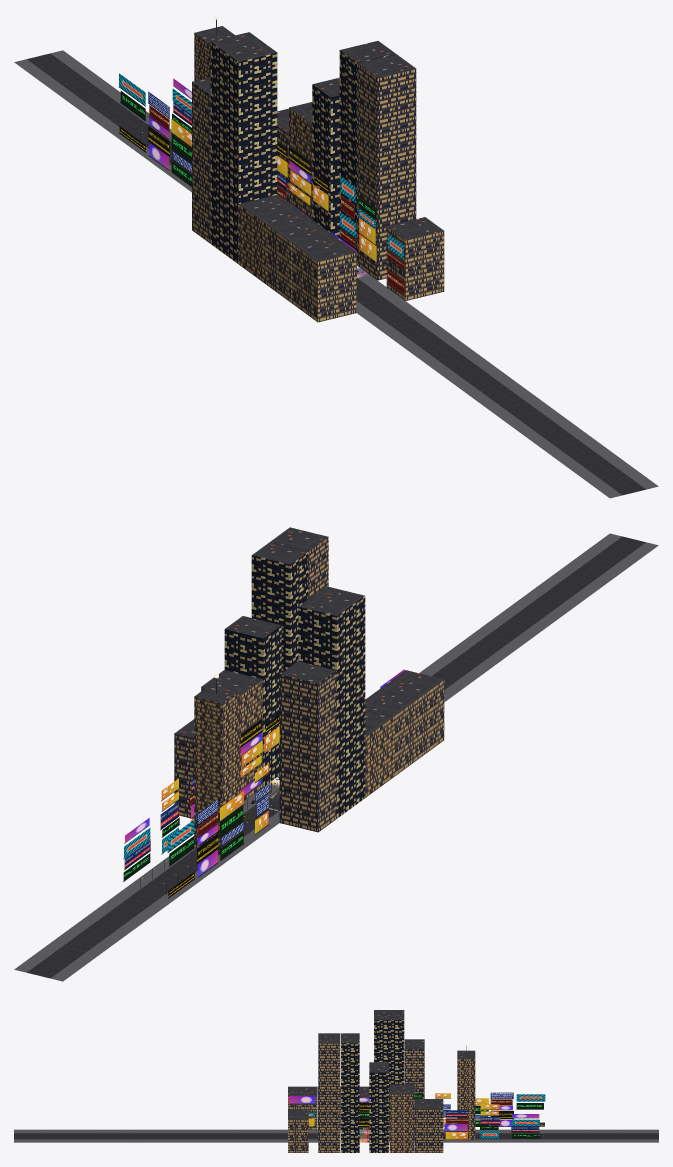
Rendered from lugar-timessquare.glb.
3 renders of one model, top to bottom at view 1: azimuth 30°, elevation 25°; view 2: azimuth 150°, elevation 25°; view 3: azimuth 270°, elevation 25°, orthographic. The views are drawn at different scales.
Visible parts, largest first — view 1: luzE, luzG-cerca, planoE, vert-cerca; view 2: luzE, luzG-cerca, planoE, vert-cerca; view 3: luzE, luzG-cerca, planoE, vert-cerca.
Boxes of the visible parts, x1,y1,x2,y2 form: luzE: (192,26,444,322); luzG-cerca: (14,50,658,498); planoE: (119,14,404,295); vert-cerca: (118,19,405,295); luzE: (174,527,444,853); luzG-cerca: (14,533,658,981); planoE: (123,669,404,897); vert-cerca: (123,678,279,898); luzE: (288,1010,475,1152); luzG-cerca: (14,1129,658,1142); planoE: (289,1043,545,1140); vert-cerca: (289,1046,544,1141).
Bounding box in the file's own units: 98 × 155 × 800.
28 materials, 18 textured.
